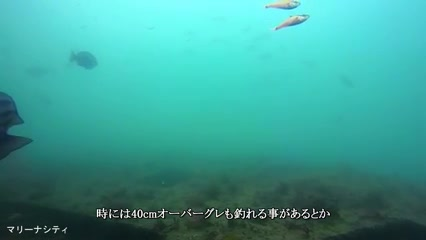smallfish: (65, 44, 103, 74), (273, 10, 312, 37)
